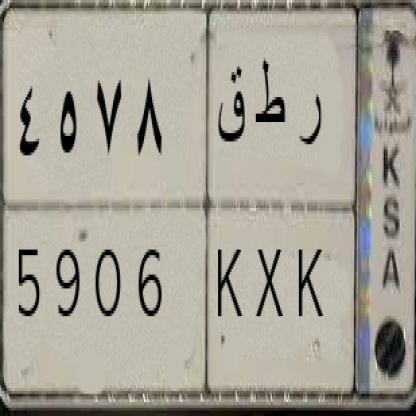english: (1, 190, 366, 382)
